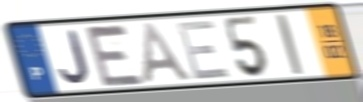5: (220, 14, 272, 80)
A: (140, 21, 196, 85)
E: (82, 23, 148, 88), (174, 18, 234, 83)
I: (272, 12, 307, 78)
J: (57, 29, 91, 86)
